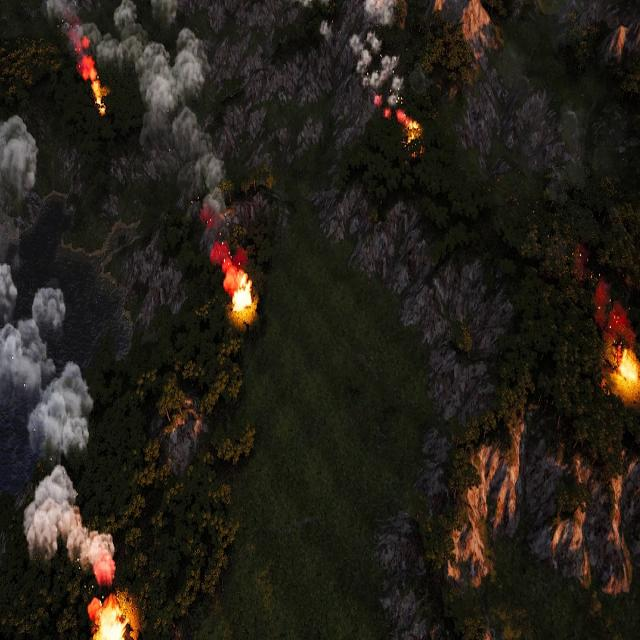fire: (78, 55, 110, 116), (396, 107, 426, 160), (93, 599, 127, 640), (232, 267, 254, 319), (615, 346, 640, 389)
smoke: (35, 1, 243, 291), (0, 263, 94, 466), (17, 466, 115, 594), (348, 1, 402, 118), (585, 256, 635, 345), (0, 112, 38, 201), (320, 18, 333, 45)
